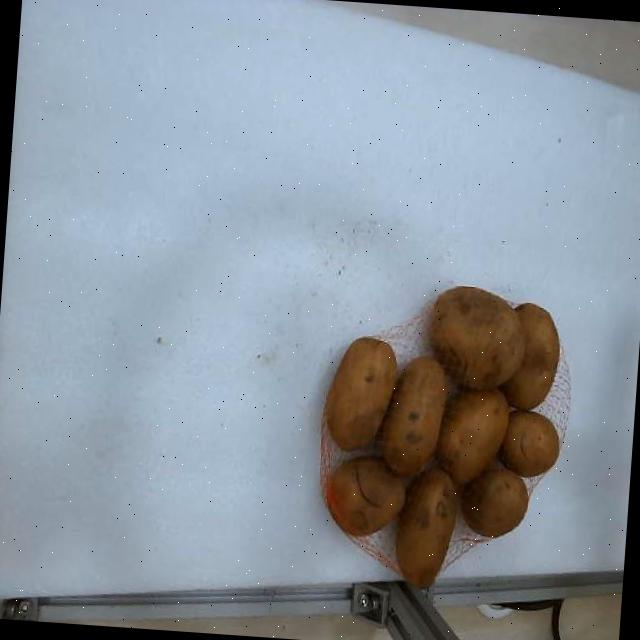potato: (429, 286, 525, 389), (327, 336, 396, 450), (395, 467, 457, 587), (382, 356, 444, 474), (436, 389, 509, 483), (500, 302, 560, 409), (326, 458, 404, 536), (461, 468, 528, 537), (500, 412, 559, 476), (500, 363, 554, 409)
